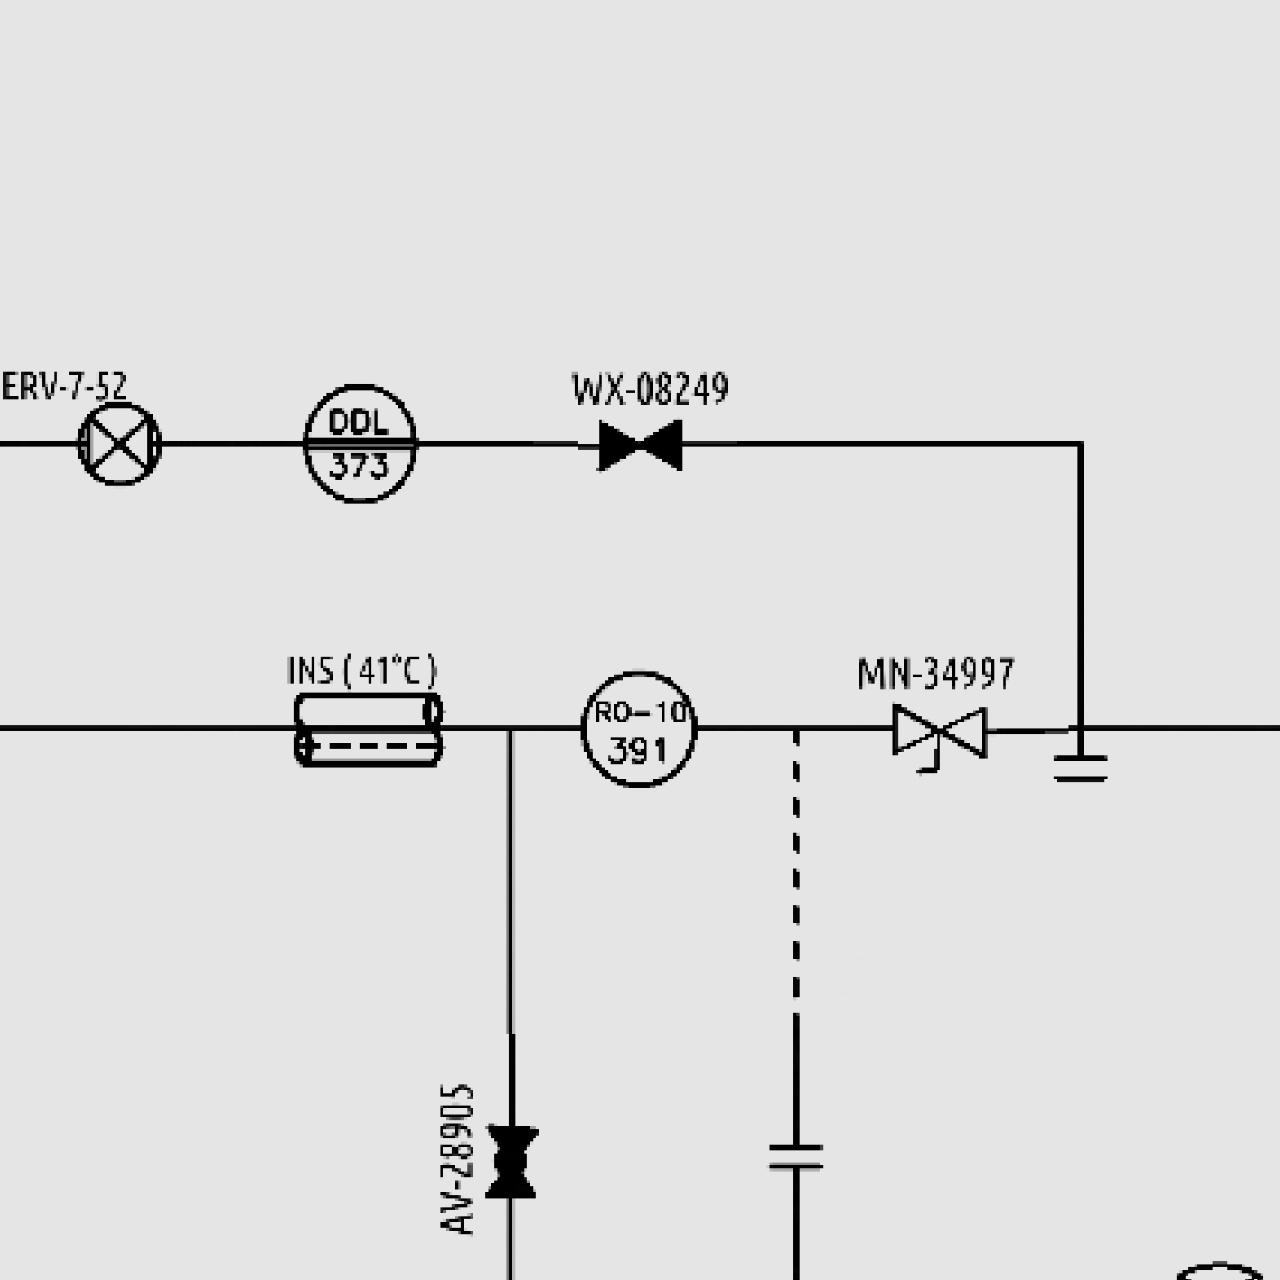Control-Panel: (295, 377, 424, 508), (574, 665, 701, 791)
